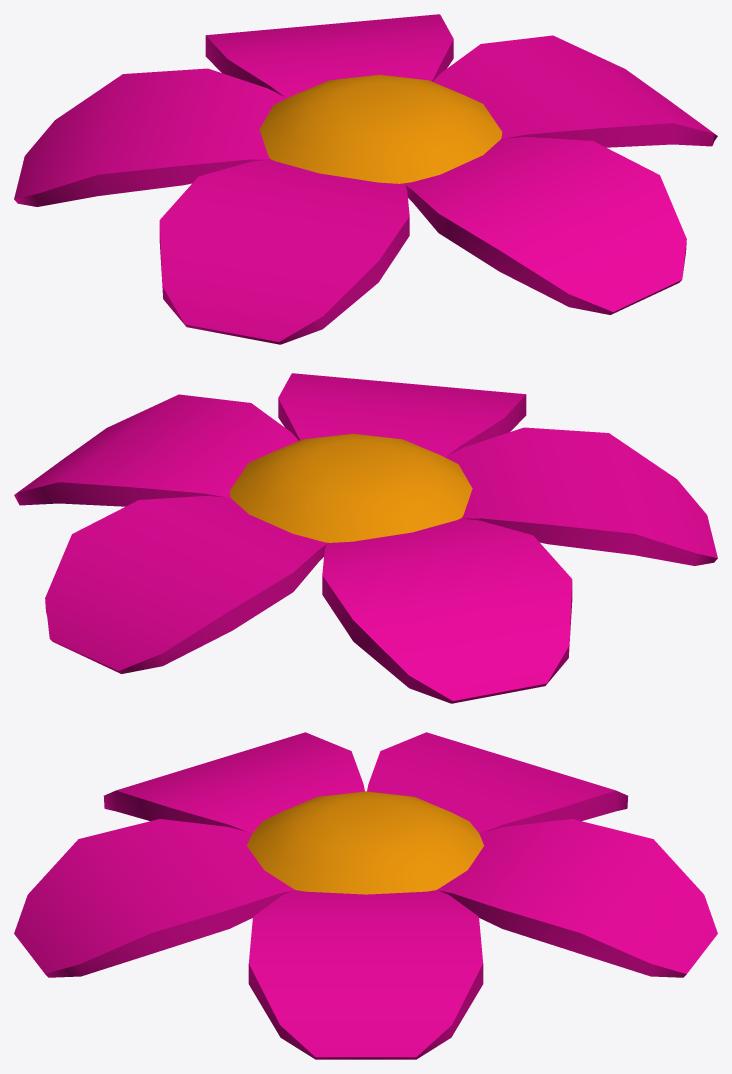
File: m6bo_flower_low.fbx
3 views of the same model, one above another, from view 1: azimuth 30°, elevation 25°; view 2: azimuth 150°, elevation 25°; view 3: azimuth 270°, elevation 25° (orthographic). The views are drawn at different scales.
Parts seen in each view (by area): view 1: Petals_Low, Flower_Low; view 2: Petals_Low, Flower_Low; view 3: Petals_Low, Flower_Low.
Boxes of the visible parts, left/top/right/bottom form: Petals_Low: left=14, top=14, right=717, bottom=344; Flower_Low: left=259, top=74, right=502, bottom=183; Petals_Low: left=14, top=373, right=717, bottom=703; Flower_Low: left=229, top=433, right=472, bottom=542; Petals_Low: left=14, top=732, right=717, bottom=1059; Flower_Low: left=247, top=791, right=483, bottom=894.
Bounding box in the file's own units: 330 × 51.96 × 347.
